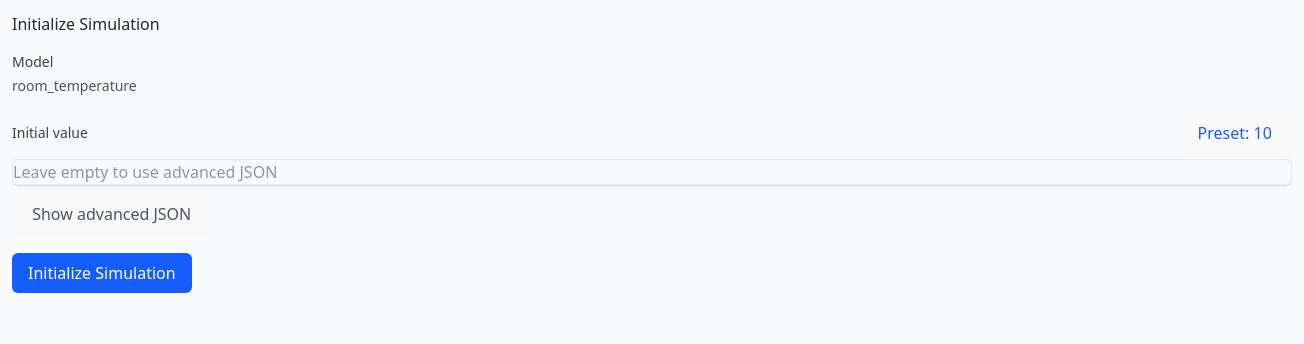
Scenario: SimulationInitializer › shows error message when API fails
The image size is (1304, 344).
What coordinates should you click on to do the following:
click the button "Initialize Simulation"
I would click on:
 (102, 272)
Its box is top-left (12, 252), bottom-right (192, 292).
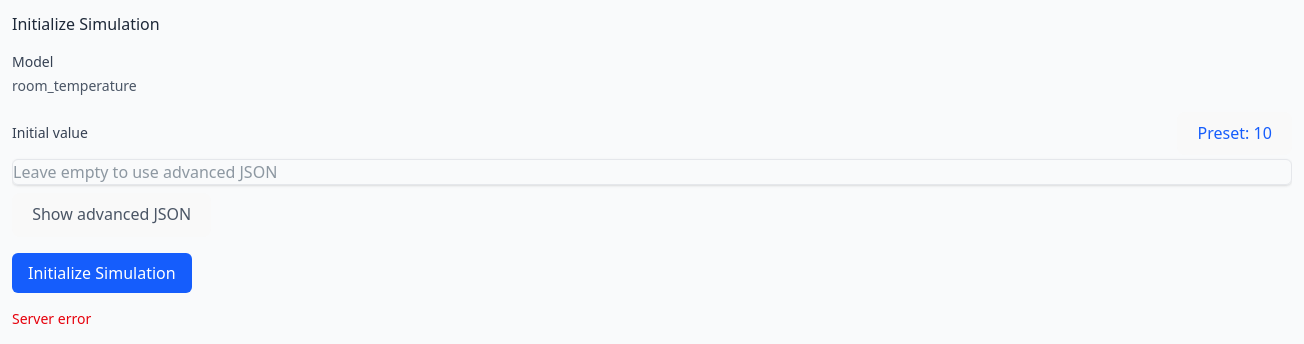
Expected: the text "Server error" is shown, top-left (12, 308), bottom-right (91, 328)
